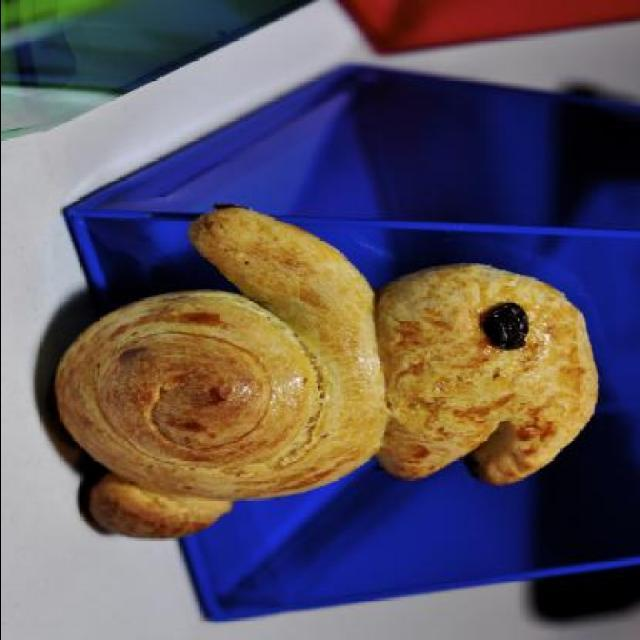Croissant: (82, 264, 384, 510)
